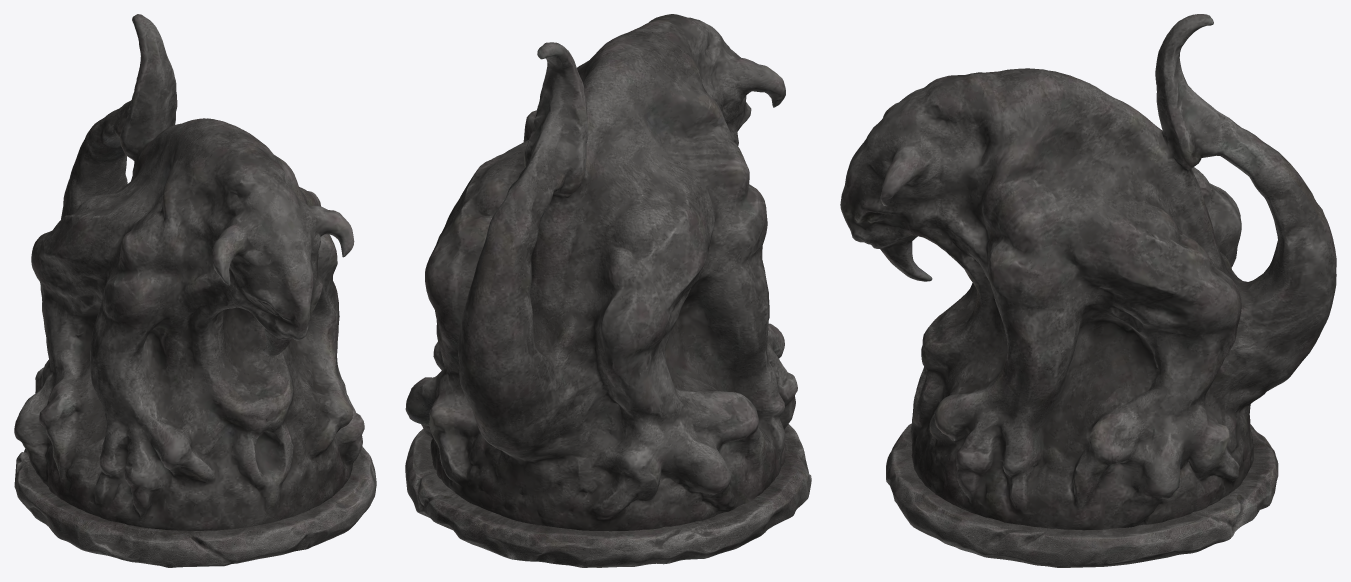
File: gargoyle_statue.glb
3 views of the same model, side by side, from view 1: azimuth 30°, elevation 25°; view 2: azimuth 150°, elevation 25°; view 3: azimuth 270°, elevation 25° (orthographic). The views are drawn at different scales.
Visible parts, largest first — view 1: Object_2, Object_5; view 2: Object_2, Object_5; view 3: Object_2, Object_5.
Part boxes in pixels (box(x1,y1,x2,y2)): Object_2: box(14, 14, 364, 530); Object_5: box(14, 446, 376, 567); Object_2: box(405, 14, 797, 531); Object_5: box(405, 424, 811, 567); Object_2: box(840, 14, 1336, 530); Object_5: box(886, 423, 1278, 567).
Bounding box in the file's own units: 231 × 308 × 293.
2 materials, 2 textured.
